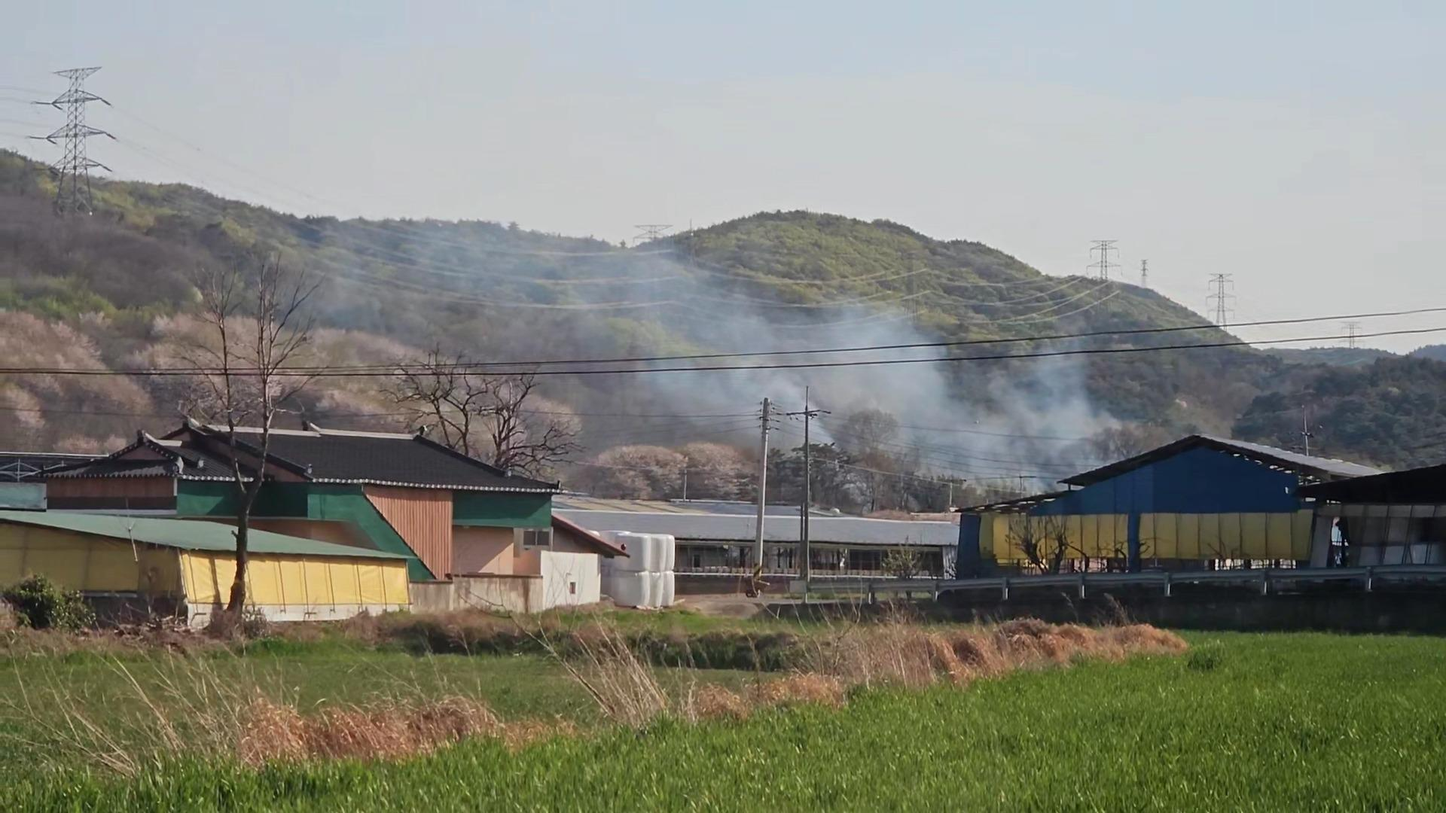smoke: (563, 280, 1134, 492)
